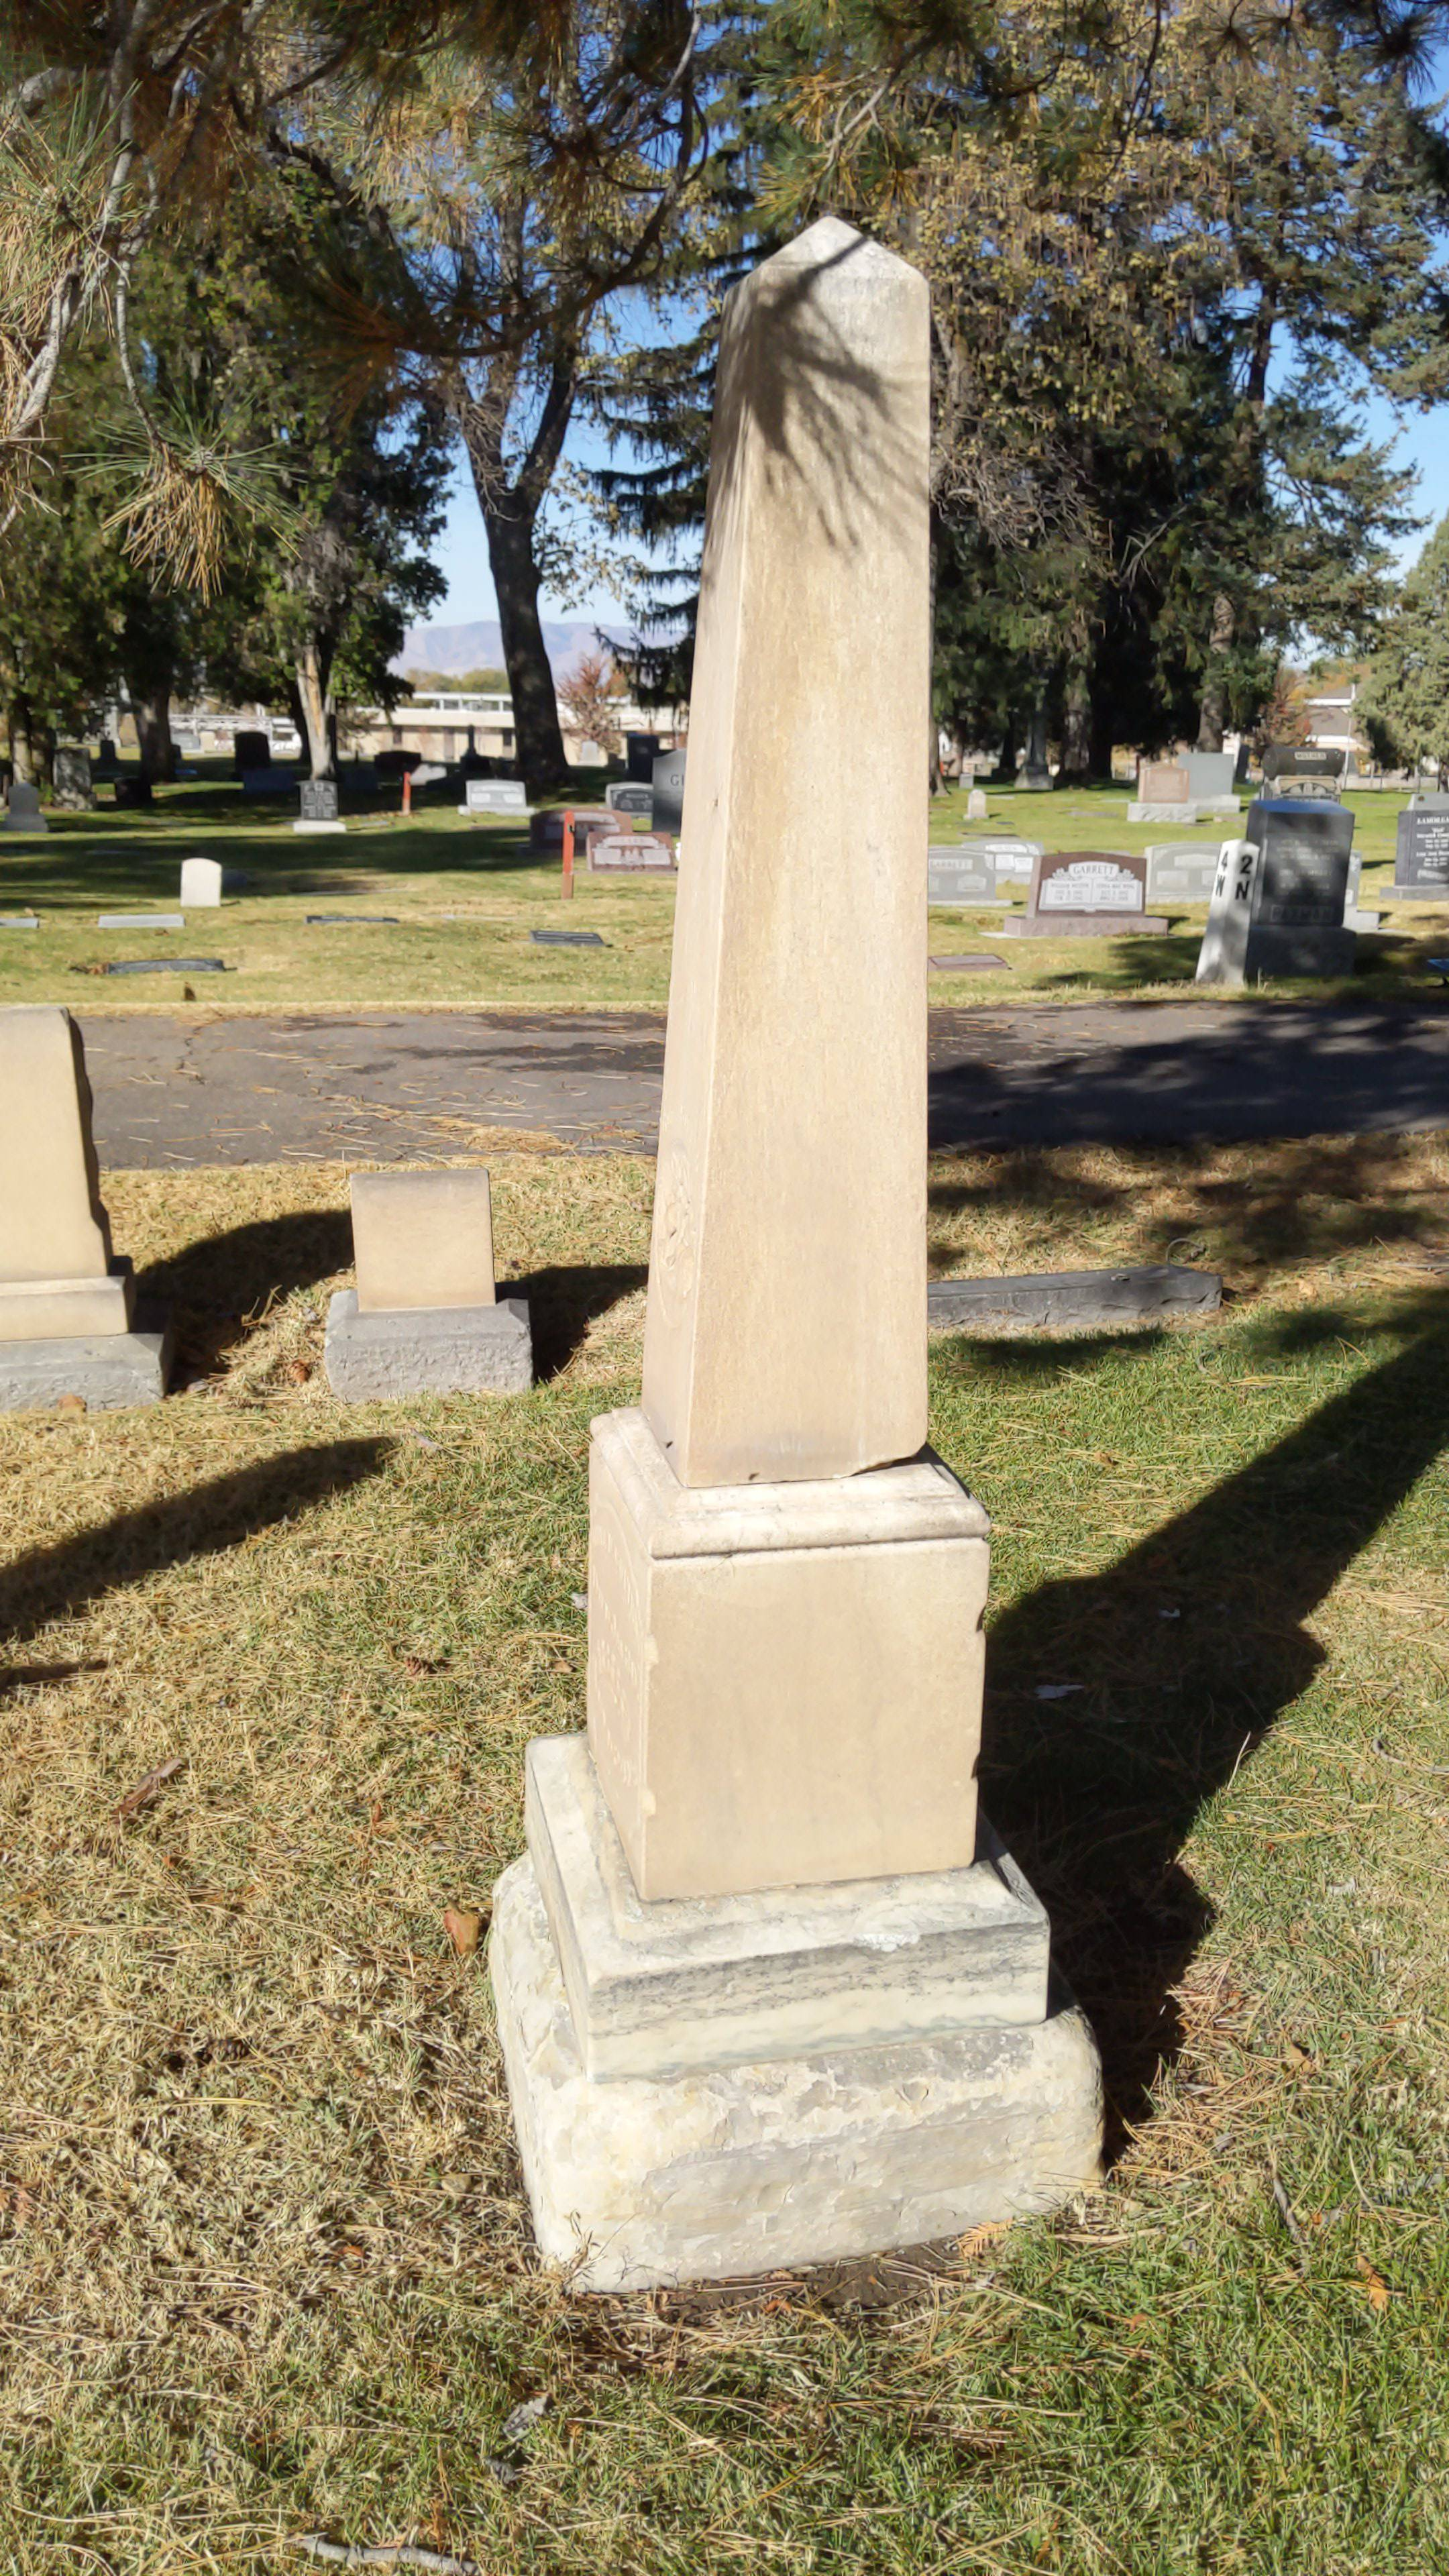obelisk: (584, 214, 991, 1909)
